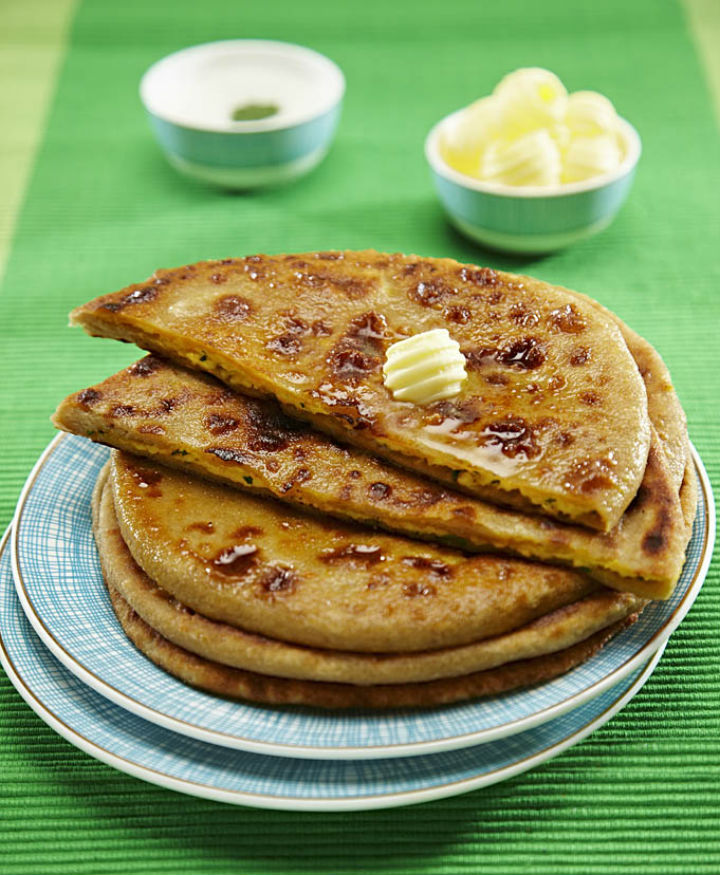aloo_paratha: (56, 247, 701, 718)
